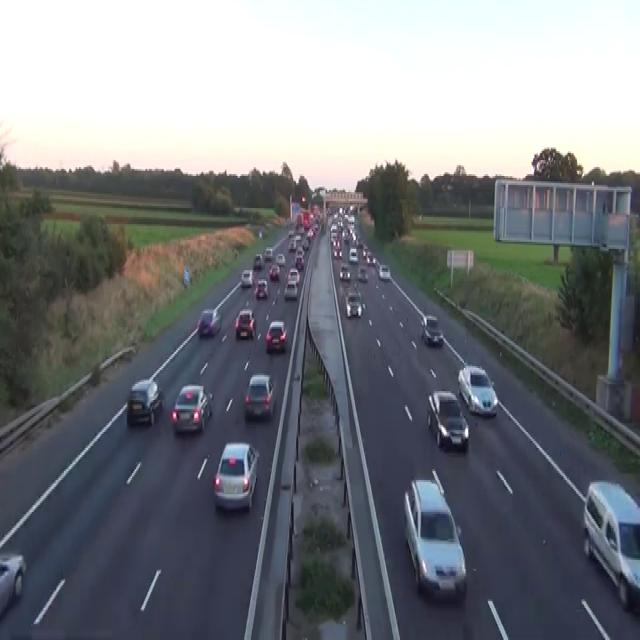Car: (403, 476, 467, 601), (582, 480, 639, 613), (212, 441, 259, 512), (426, 389, 469, 450), (170, 384, 213, 434), (457, 364, 498, 416), (0, 553, 26, 624), (126, 378, 164, 426), (244, 374, 275, 419), (420, 314, 443, 346), (265, 320, 287, 352), (197, 308, 221, 336), (234, 308, 255, 340), (344, 292, 362, 318), (431, 468, 444, 496), (283, 279, 298, 299), (255, 277, 268, 299), (421, 315, 438, 329), (241, 268, 253, 286), (287, 266, 299, 284), (269, 263, 280, 281), (339, 263, 350, 281), (378, 263, 390, 279), (357, 265, 368, 281), (253, 252, 263, 268), (294, 254, 304, 270), (349, 247, 358, 263), (275, 252, 285, 266), (264, 247, 273, 260), (288, 238, 296, 251), (301, 238, 309, 251), (372, 256, 379, 270), (295, 245, 303, 256), (366, 251, 373, 263), (362, 244, 368, 258), (307, 228, 314, 238), (336, 247, 342, 258), (348, 213, 354, 224), (295, 233, 301, 242), (288, 228, 294, 236), (258, 230, 262, 238)
